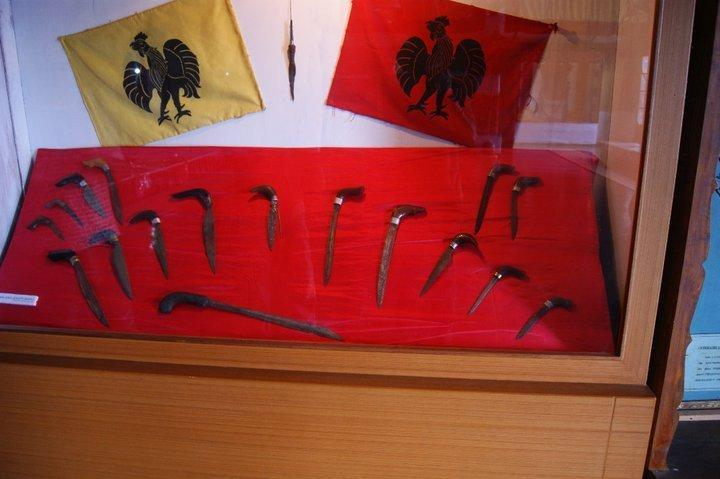facao: (158, 290, 347, 343), (375, 204, 427, 310), (47, 249, 110, 328), (323, 183, 367, 285), (172, 186, 220, 278), (418, 232, 479, 300), (507, 288, 582, 342), (468, 263, 530, 318), (87, 228, 130, 301), (130, 208, 169, 280), (84, 158, 124, 226), (475, 164, 512, 234), (55, 172, 107, 218), (510, 174, 540, 242), (251, 185, 280, 254), (44, 198, 82, 228), (28, 214, 64, 238)
